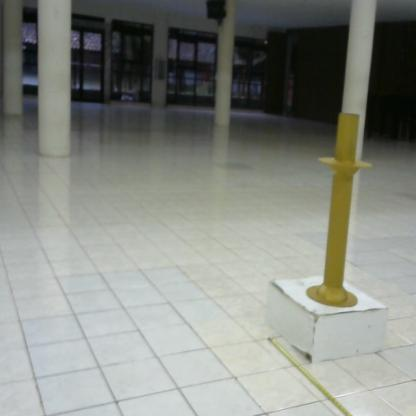pole: (303, 109, 379, 323)
